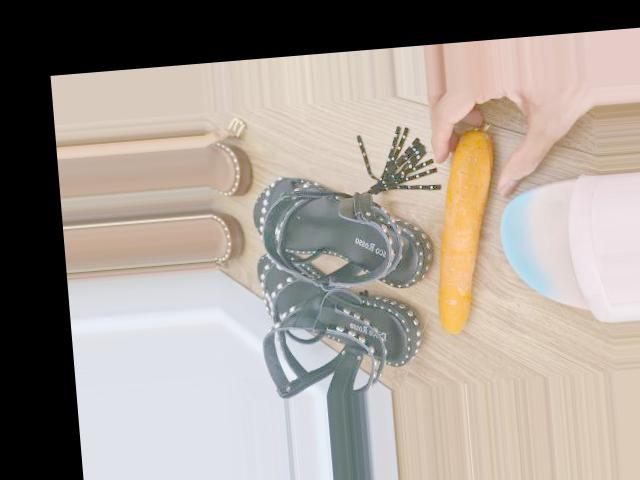carrot: (423, 129, 508, 336)
